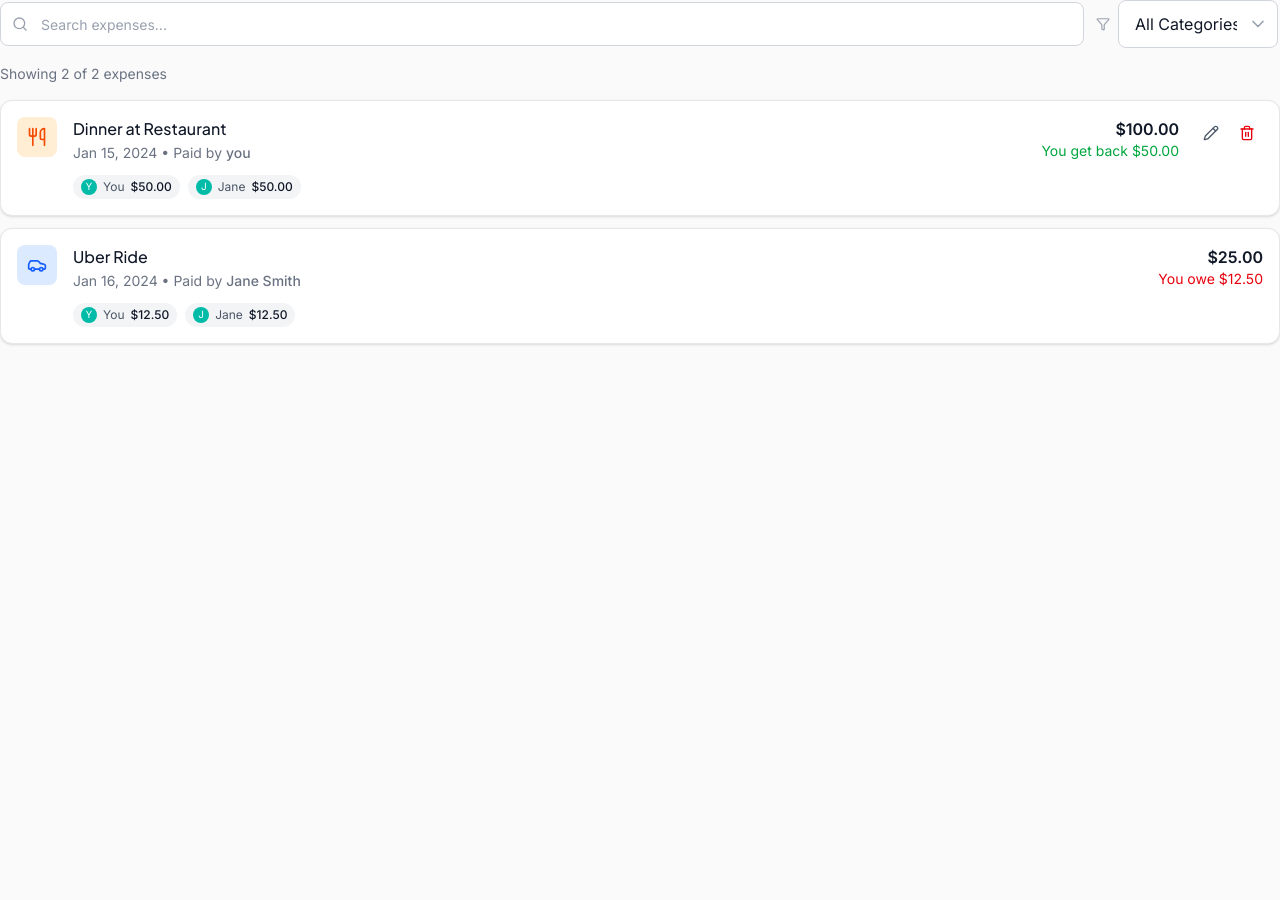
Test: ExpensesList › shows delete confirmation modal
Click the button titled "Delete expense": x=1247, y=133 x1=1231 y1=117 x2=1263 y2=149
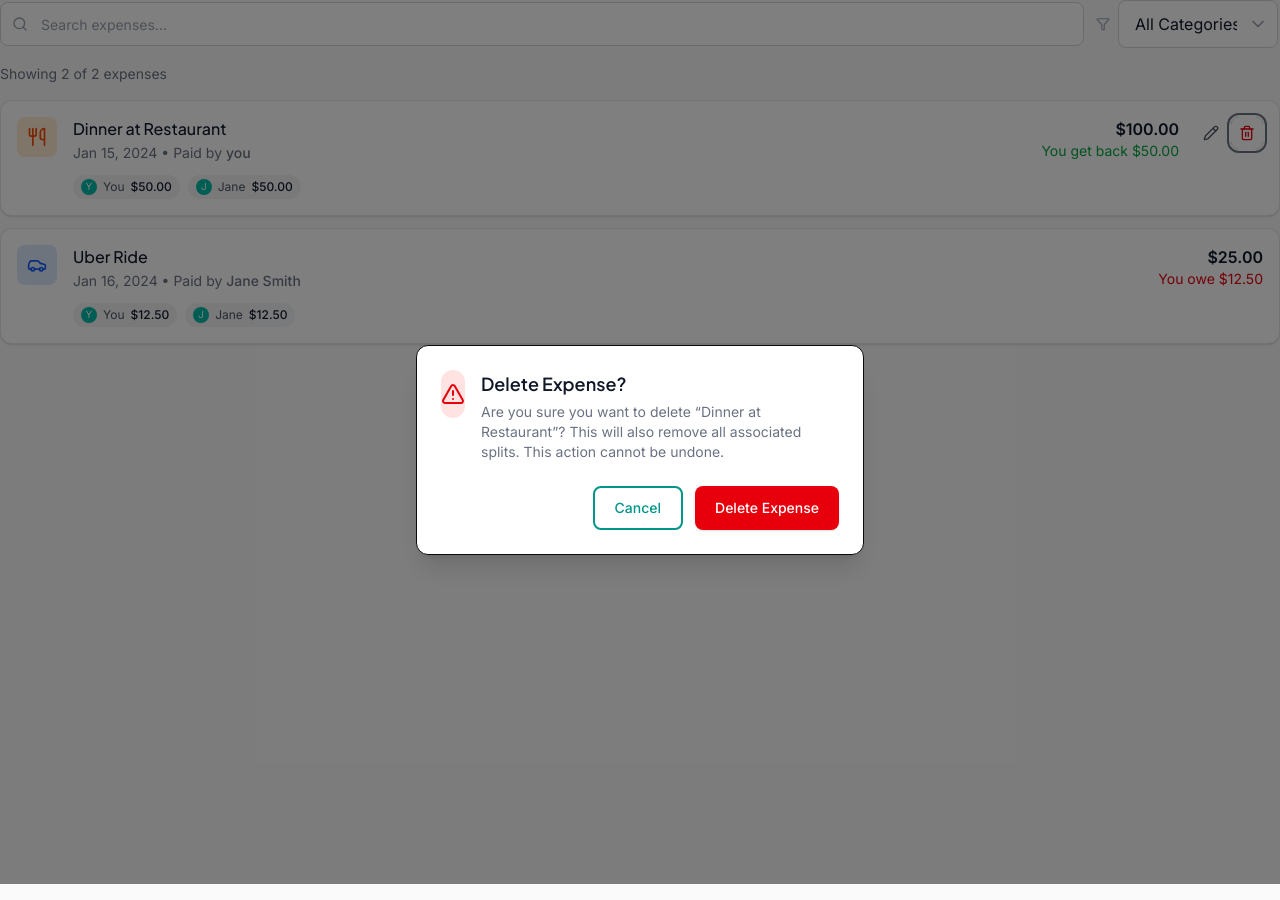
Result: the heading "Delete Expense?" is shown at x1=481 y1=372 x2=626 y2=395
Result: the text "Are you sure you want to delete" is shown at x1=481 y1=403 x2=701 y2=420
Result: the button "Delete Expense" is shown at x1=695 y1=486 x2=839 y2=530
